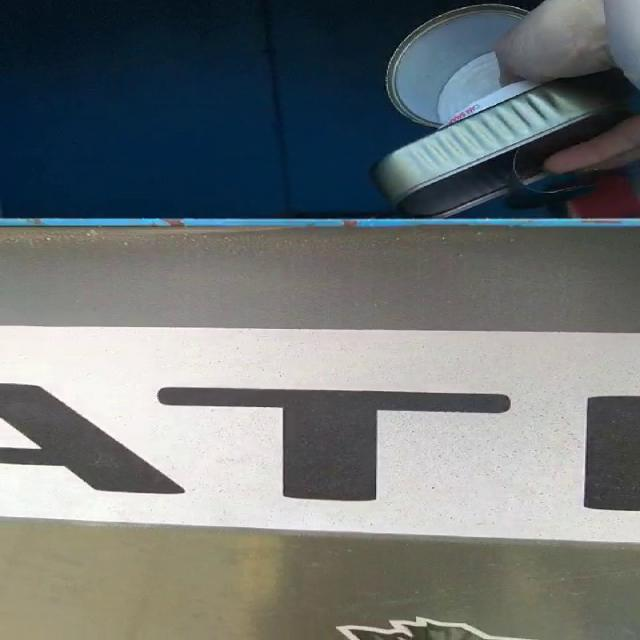bin: (1, 0, 639, 334), (1, 519, 640, 640)
metal: (373, 4, 640, 217)
